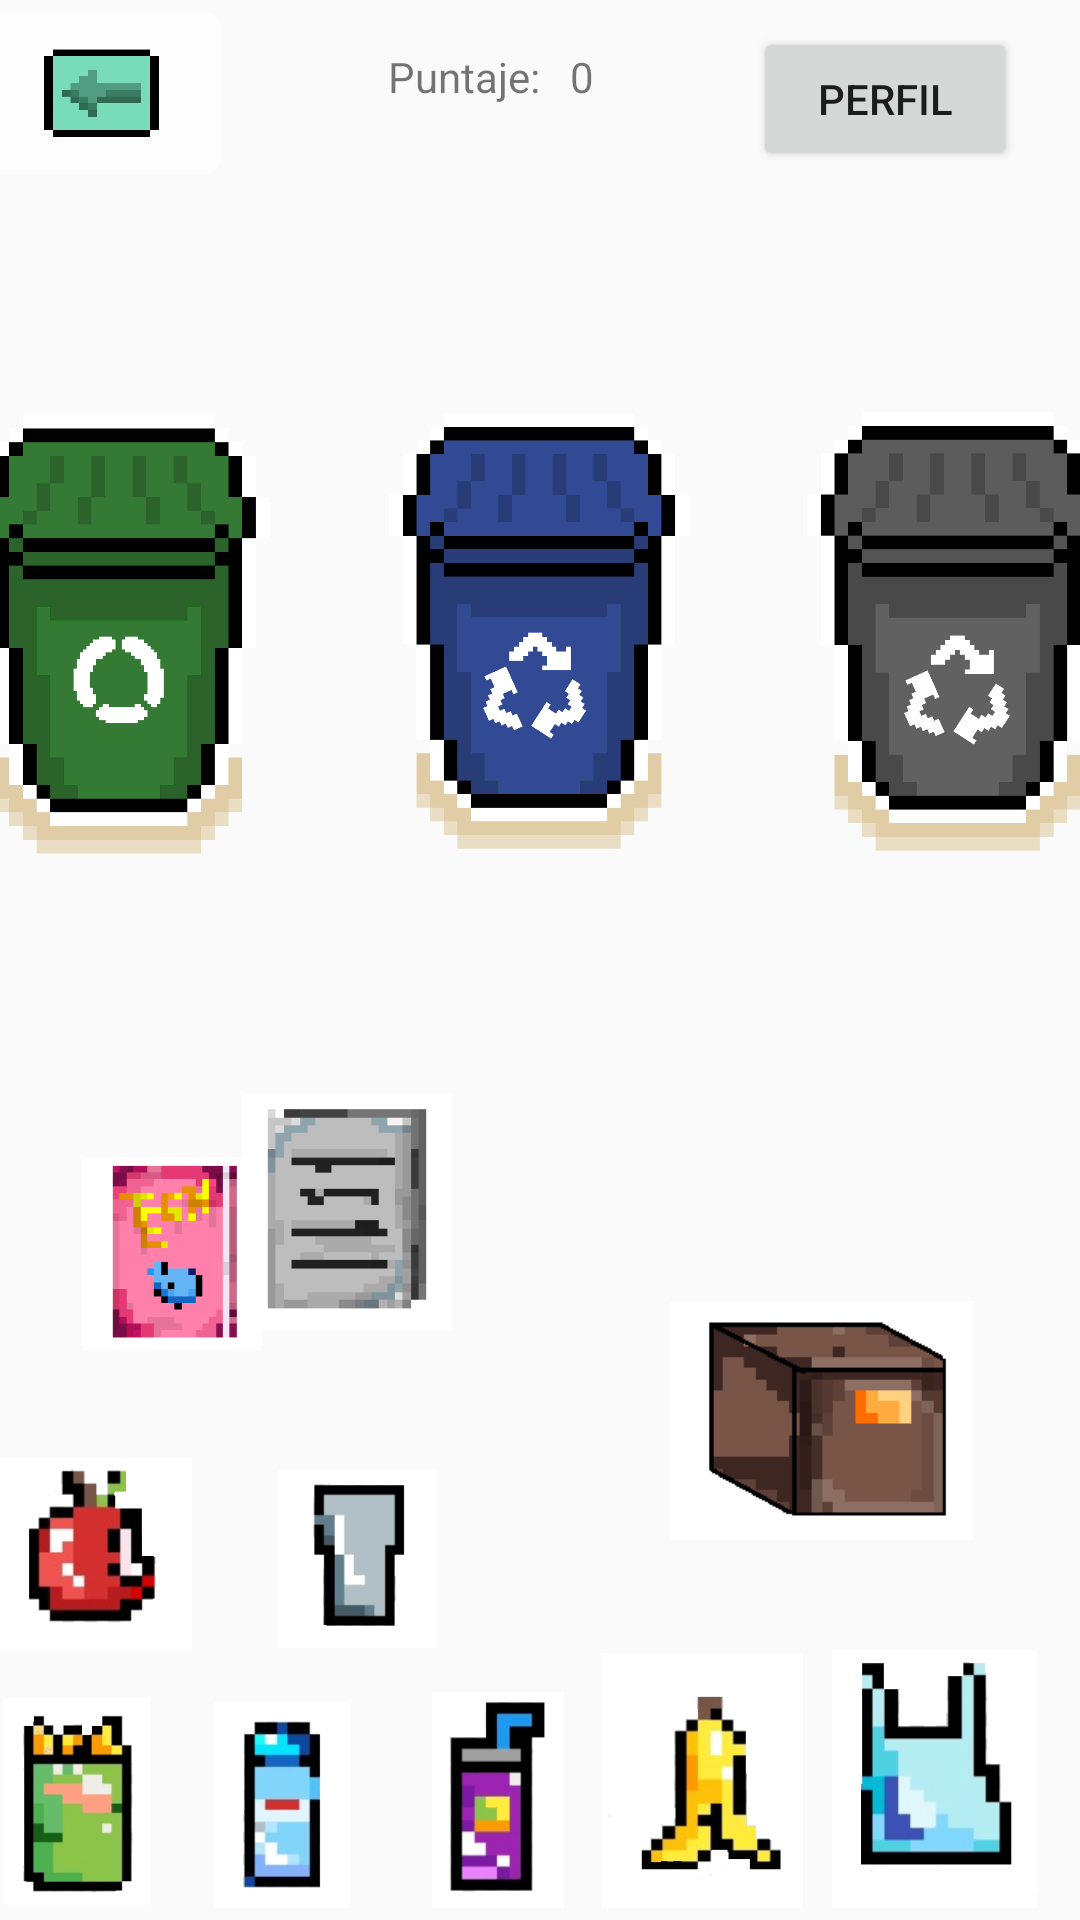

Icons on this 1080 × 1920 Android screen, each with its box as box=[x1, y1, x2, y2]:
banano: box=[609, 1696, 781, 1870]
bolsa: box=[861, 1662, 1012, 1871]
botella: box=[243, 1721, 320, 1888]
caja: box=[709, 1322, 946, 1516]
gaseosa: box=[450, 1702, 545, 1892]
mecato: box=[23, 1716, 132, 1892]
periodico: box=[268, 1109, 427, 1309]
revista: box=[112, 1166, 237, 1338]
vaso: box=[313, 1484, 404, 1626]
